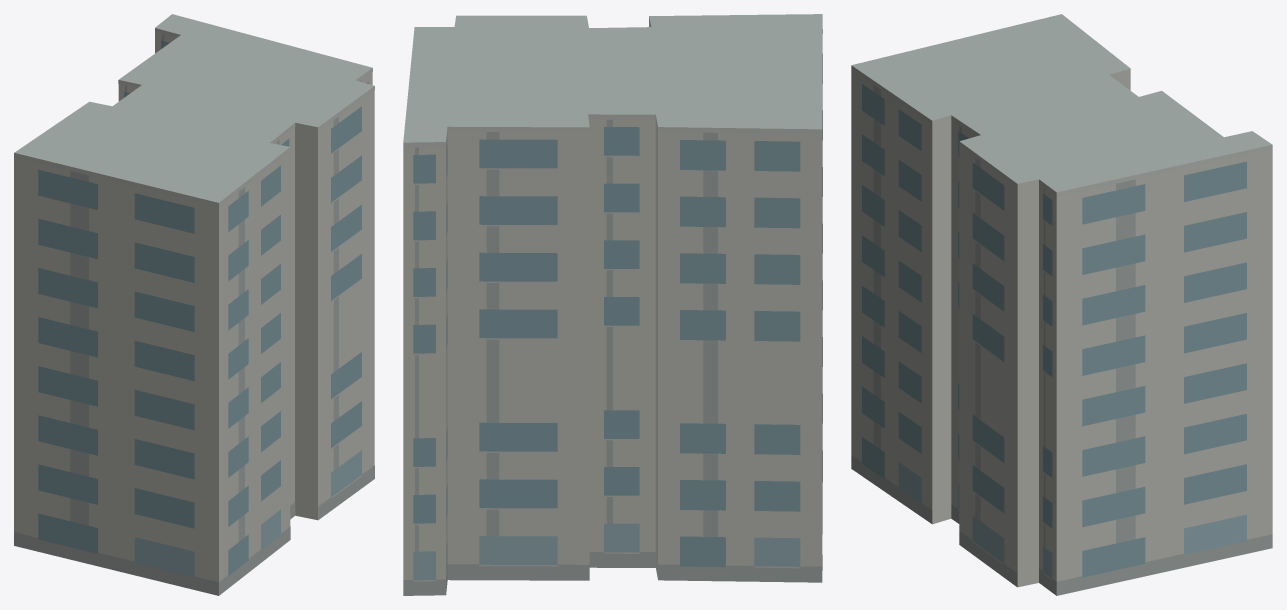
Rendered from survey-upis-32676266.glb.
3 views of the same model, side by side, from view 1: azimuth 30°, elevation 25°; view 2: azimuth 150°, elevation 25°; view 3: azimuth 270°, elevation 25° (orthographic). The views are drawn at different scales.
Visible parts, largest first — view 1: survey-upis-32676266.tmp; view 2: survey-upis-32676266.tmp; view 3: survey-upis-32676266.tmp.
Part boxes in pixels (<box>): survey-upis-32676266.tmp: <box>14,14,374,595</box>; survey-upis-32676266.tmp: <box>403,14,822,595</box>; survey-upis-32676266.tmp: <box>851,14,1272,595</box>.
Size of the model in its own units: 20.96 by 22.1 by 20.92.
